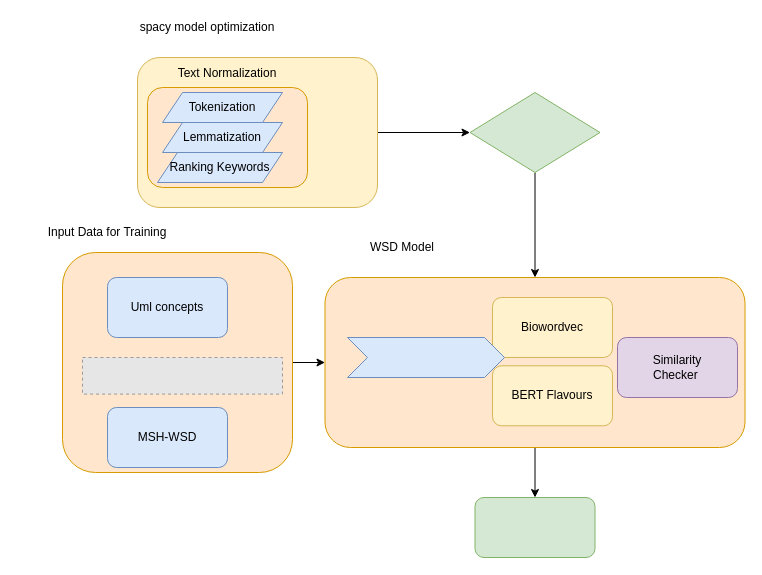
Some shapes in this 762 by 575 pixel diagram are drawn without their labels. Grey dashed boxes stand in for pictures. Here are the shapes that lost their labels. From the top down, the centre of each, then its label:
(x=534, y=132): Disambiguate words
(x=425, y=357): DATA Preparation
(x=534, y=527): output word
